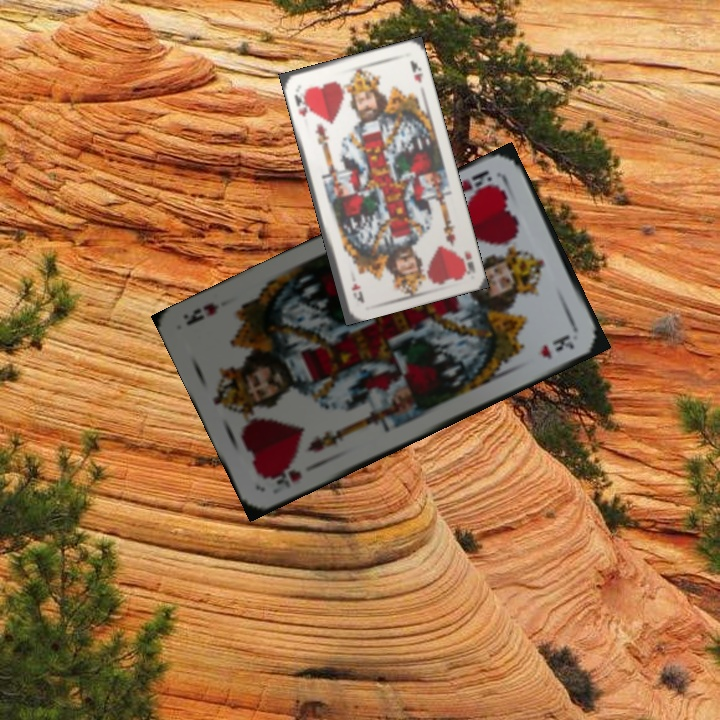HK: (456, 166, 502, 200), (259, 463, 305, 492), (290, 85, 312, 119), (455, 247, 478, 277)
